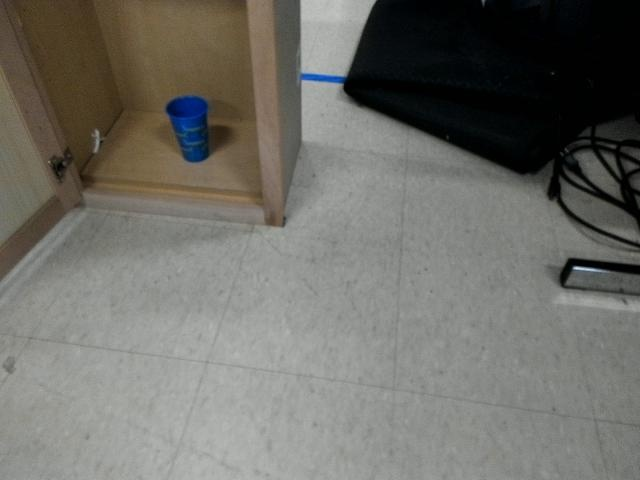water_cup: (161, 90, 215, 164)
